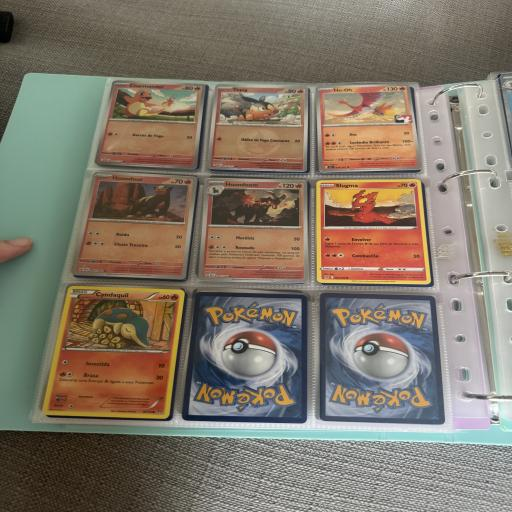card: (41, 284, 186, 419), (71, 170, 198, 280), (198, 178, 311, 283), (317, 180, 431, 284), (94, 79, 206, 170), (315, 83, 423, 173), (207, 83, 310, 172)
